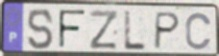C: (184, 11, 213, 52)
F: (57, 8, 87, 51)
L: (123, 10, 149, 52)
P: (152, 11, 182, 51)
S: (26, 7, 55, 51)
Z: (89, 9, 119, 51)
